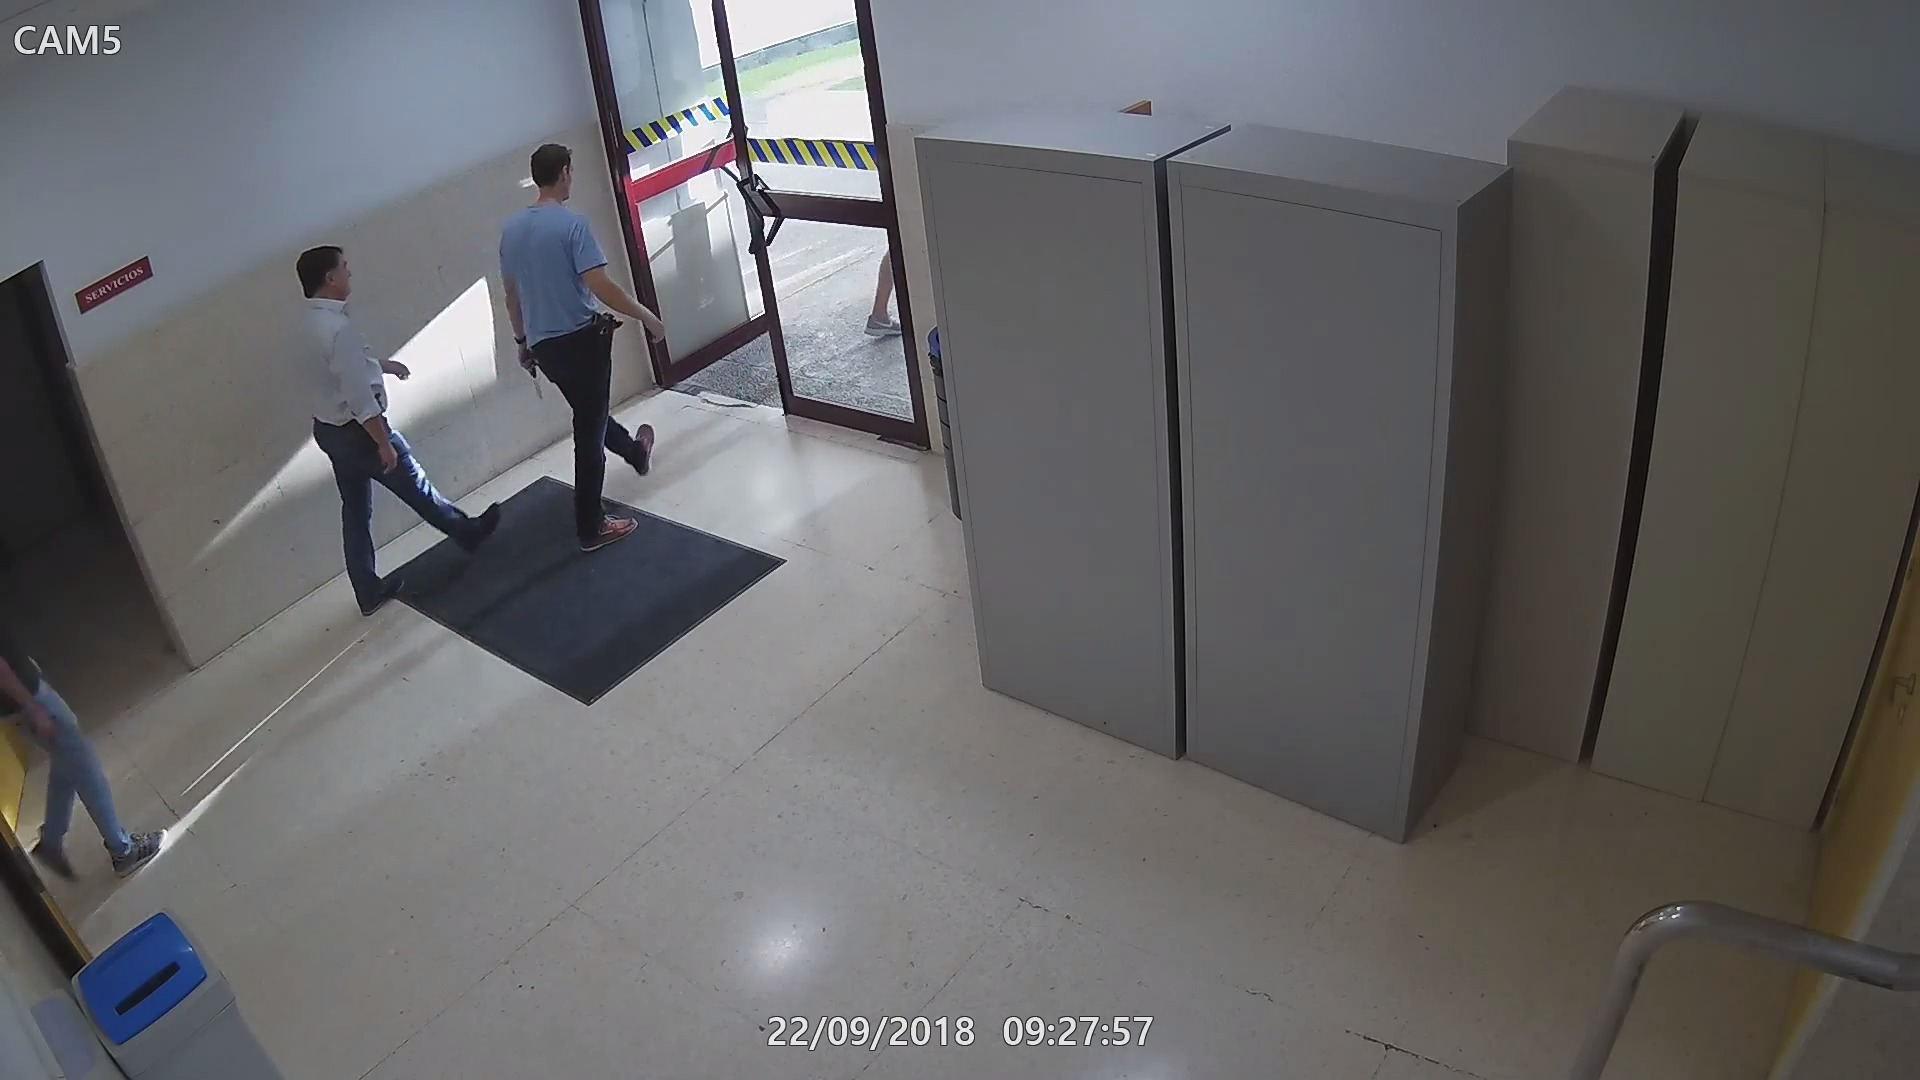Handgun: (22, 705, 73, 754), (589, 311, 622, 363), (375, 390, 382, 413)
Knife: (514, 338, 543, 404)
